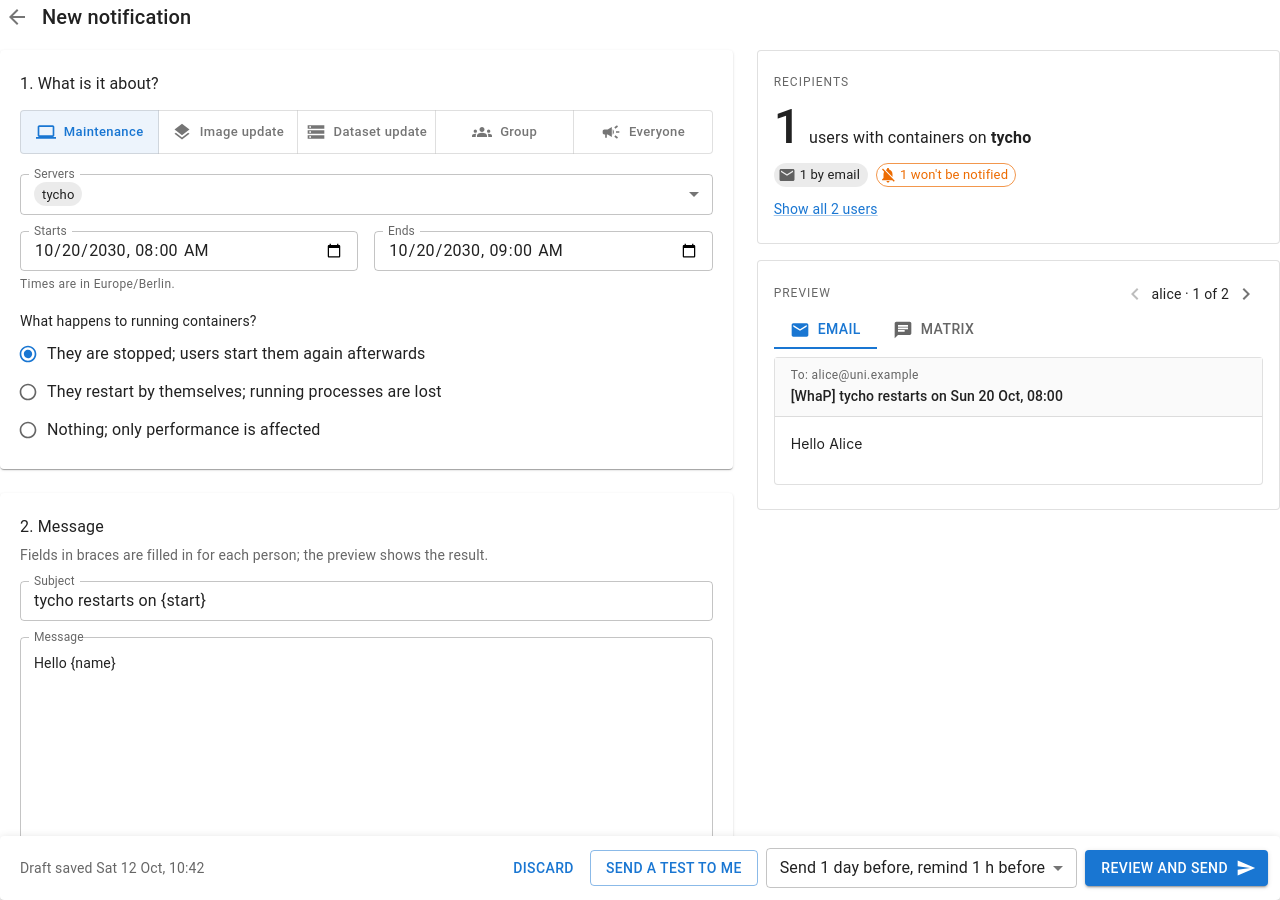
it: review and send confirms once, then schedules a day ahead with a reminder
Later steps or results of the test are not shown.
Expected: the heading "1. What is it about?" is shown, x1=20 y1=74 x2=159 y2=93
Expected: the heading "1" is shown, x1=774 y1=99 x2=801 y2=155
Click the button with test id "composer-review".
click(1177, 868)  # box x1=1085 y1=850 x2=1268 y2=886
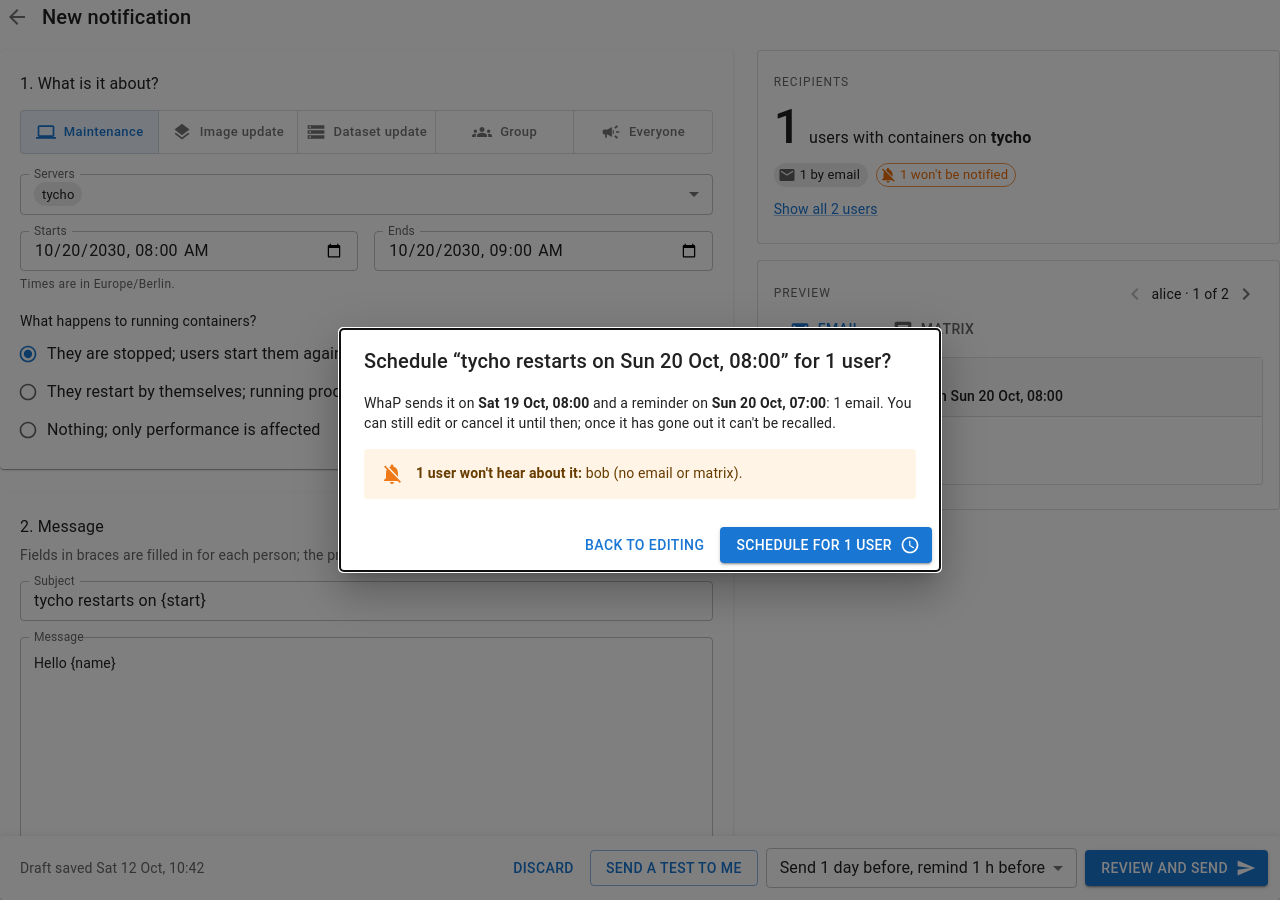
Result: the element with test id "confirm-dialog" shows "Schedule “tycho restarts on Sun 20 Oct, 08:00” for 1 user?"
Result: the element with test id "confirm-dialog" shows "Sat 19 Oct, 08:00" at x1=478 y1=395 x2=589 y2=411
Result: the element with test id "confirm-dialog" shows "1 user won't hear about it: bob (no email or matrix)"
